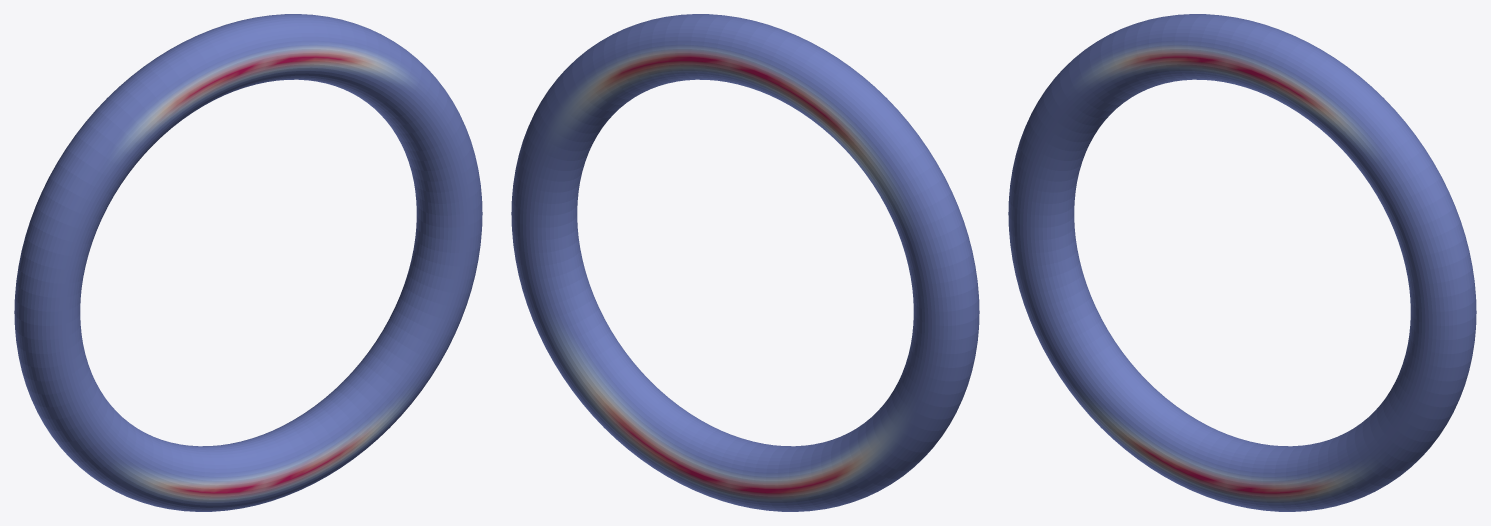
3 renders of one model, left to right at view 1: azimuth 30°, elevation 25°; view 2: azimuth 150°, elevation 25°; view 3: azimuth 330°, elevation 25°, orthographic.
Visible parts, largest first — view 1: world; view 2: world; view 3: world.
Part boxes in pixels (left/top/right/bottom): world: left=14, top=14, right=482, bottom=511; world: left=511, top=14, right=979, bottom=511; world: left=1008, top=14, right=1476, bottom=511.
Bounding box in the file's own units: 18.27 × 18.27 × 2.26.
